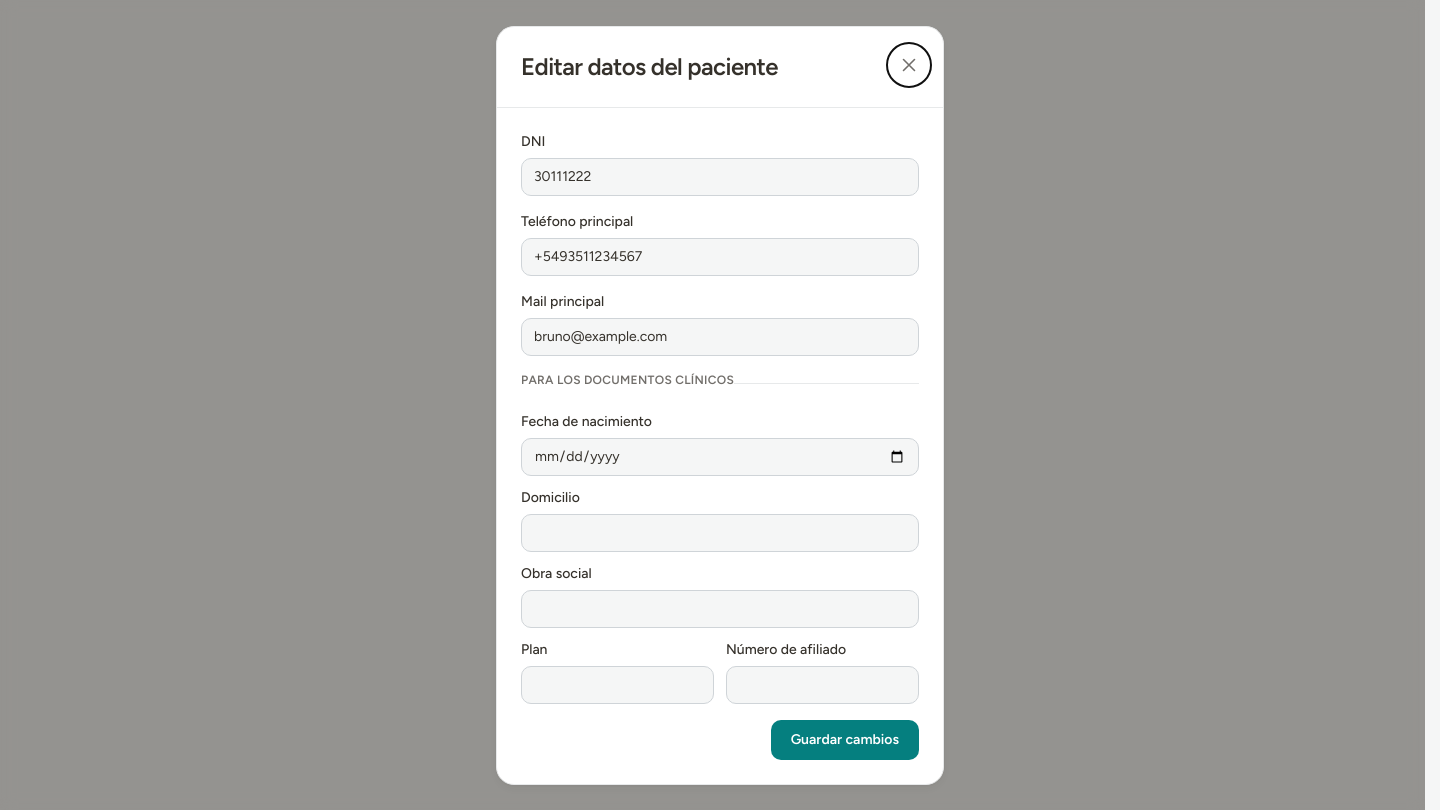
Test case: EditarPacienteModal › muestra el error que devuelve la acción
The width and height of the screenshot is (1440, 810).
Click the button "Guardar cambios" at (845, 740), box [771,720,919,760]
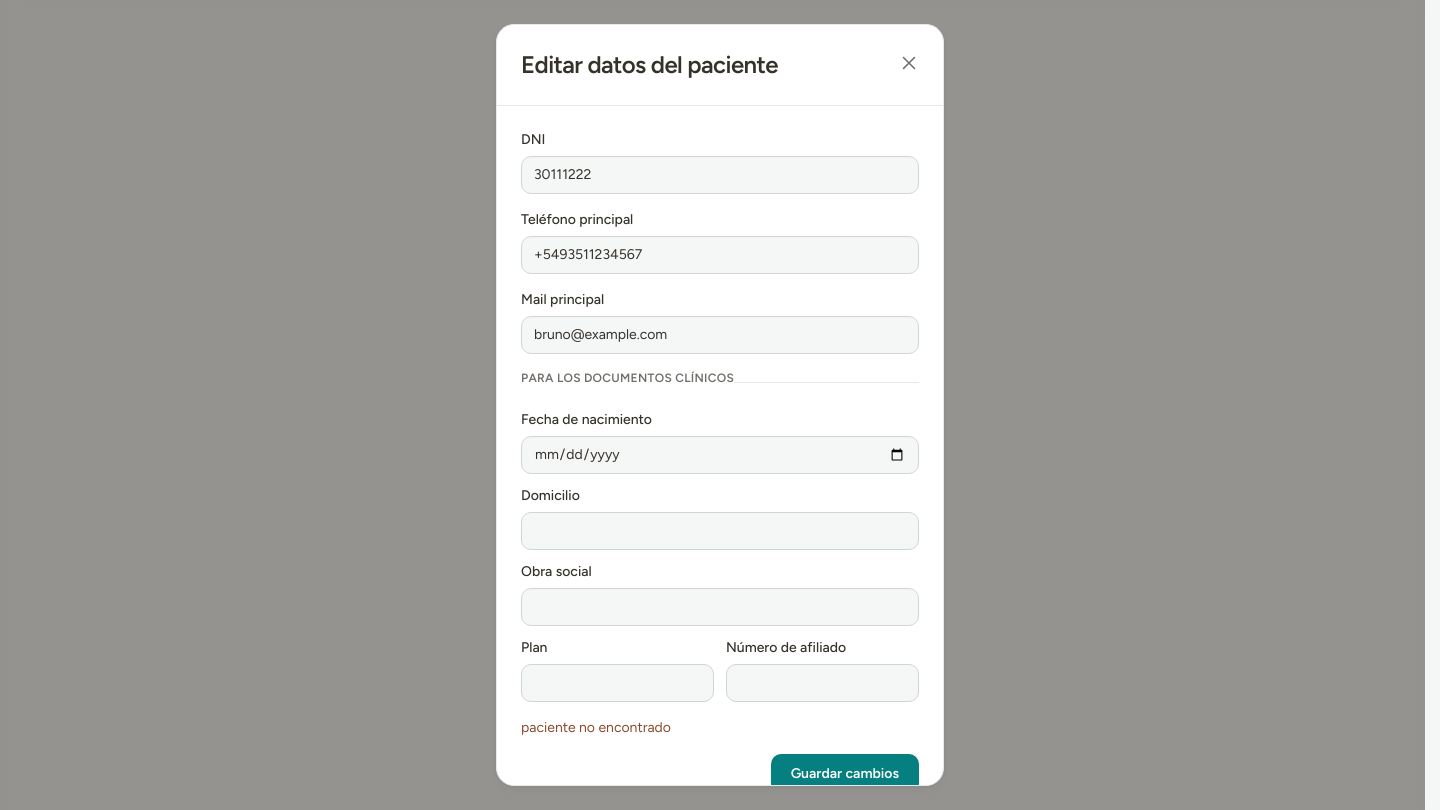
Expected: the message reads "paciente no encontrado", [521,719,671,736]
